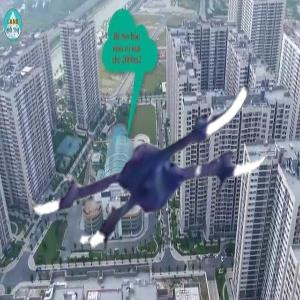drone: (27, 32, 270, 275)
